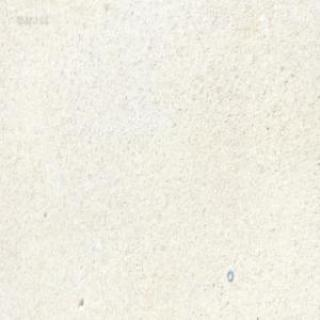Washertrack_idkeyframe: (226, 269, 232, 281)
